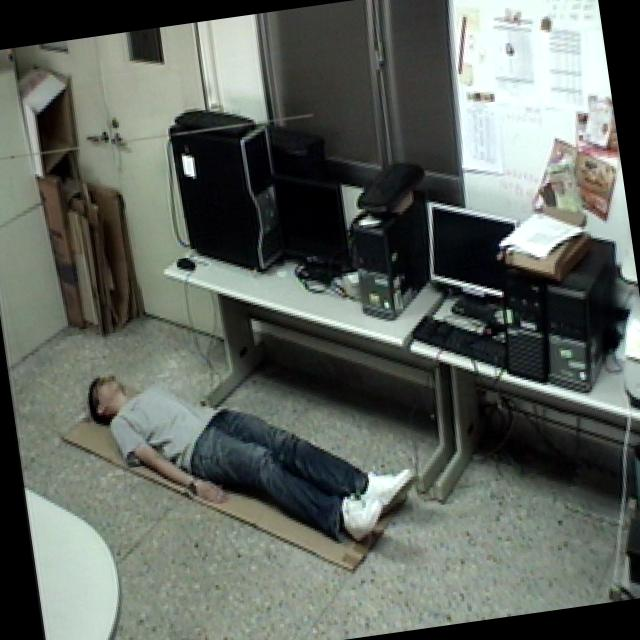lie: (78, 320, 428, 583)
